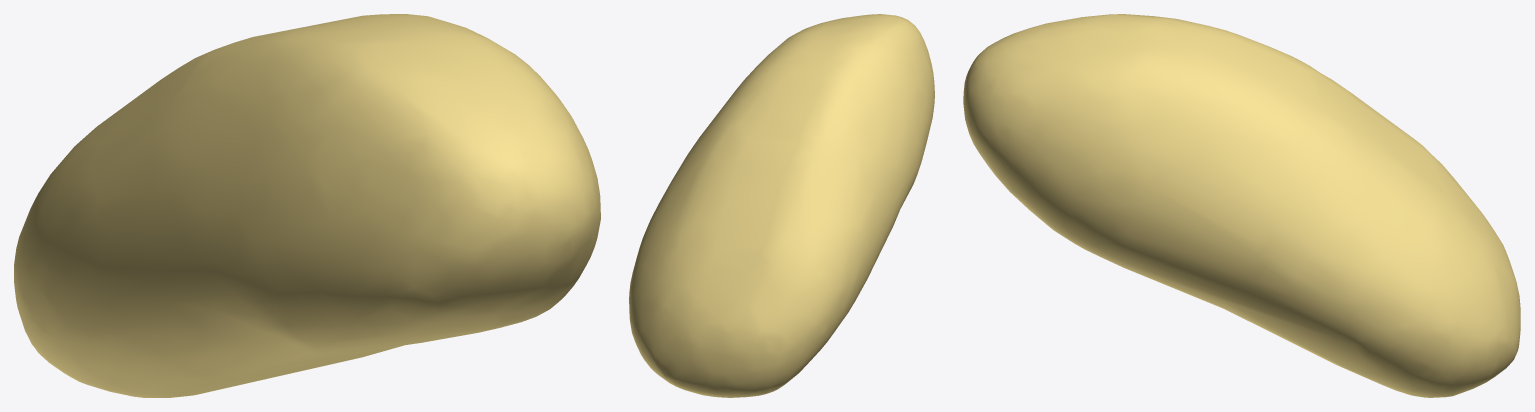
Rendered from fma62033.glb.
3 renders of one model, left to right at view 1: azimuth 30°, elevation 25°; view 2: azimuth 150°, elevation 25°; view 3: azimuth 270°, elevation 25°, orthographic. The views are drawn at different scales.
Visible parts, largest first — view 1: FMA62033; view 2: FMA62033; view 3: FMA62033.
Part boxes in pixels (x1=…): FMA62033: x1=14, y1=14, x2=600, y2=397; FMA62033: x1=629, y1=14, x2=934, y2=397; FMA62033: x1=963, y1=14, x2=1520, y2=397.
Bounding box in the file's own units: 0.00594 × 0.00731 × 0.0108.
